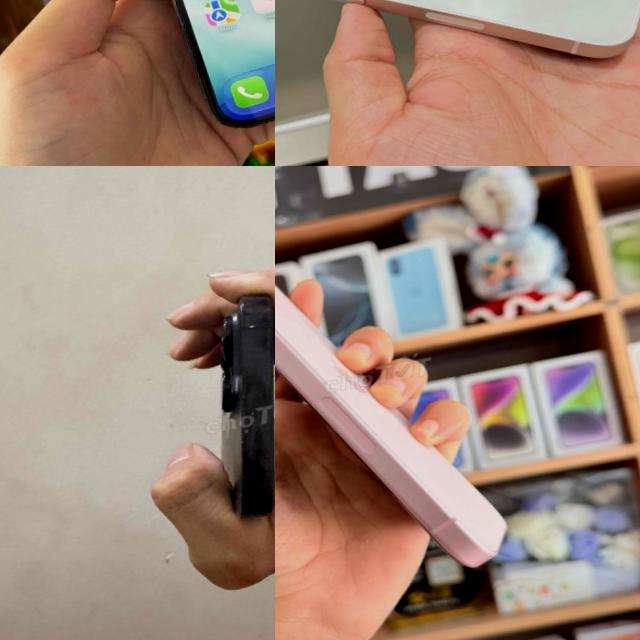gen_12_13: (275, 0, 640, 122), (98, 0, 275, 140)
gen_14: (170, 278, 275, 528)
gen_15: (275, 166, 531, 629)
